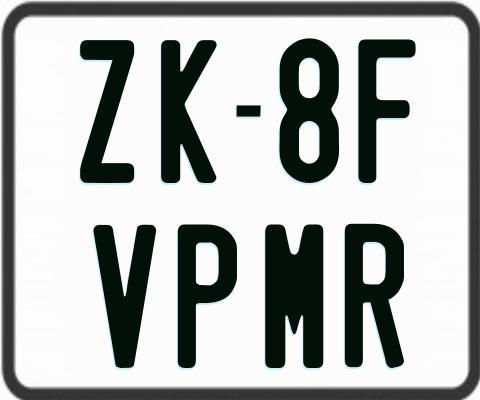8: (277, 36, 340, 185)
F: (355, 37, 415, 186)
K: (158, 39, 220, 183)
M: (262, 222, 326, 367)
P: (176, 224, 239, 373)
R: (343, 221, 408, 371)
V: (91, 225, 154, 373)
Z: (77, 40, 133, 183)
